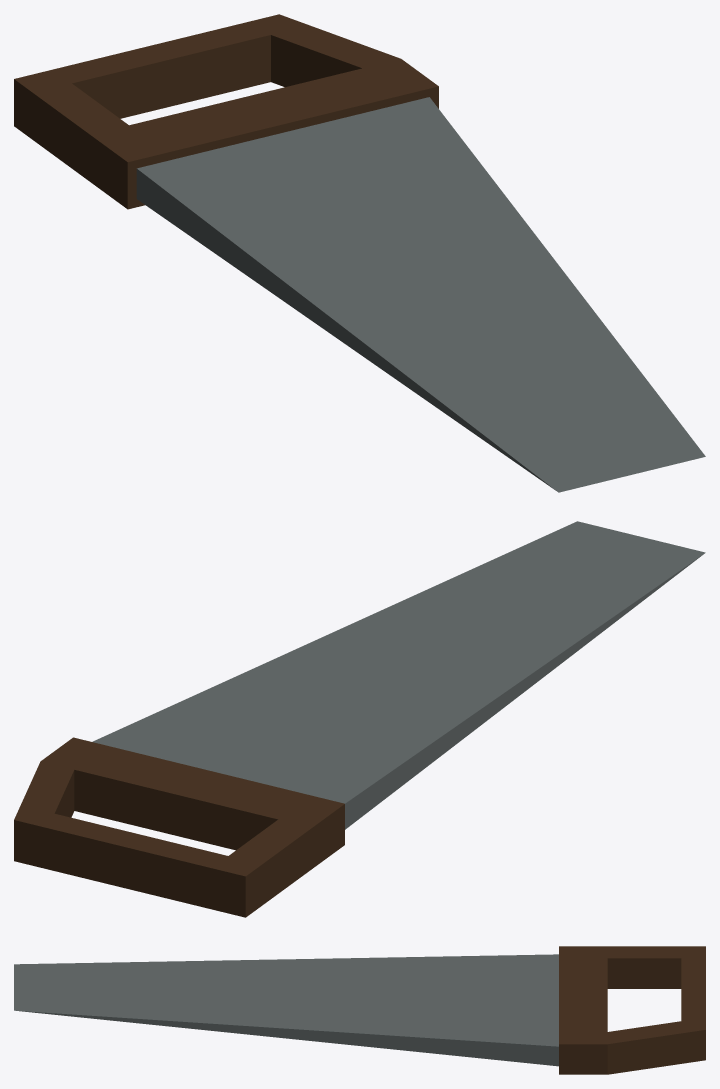
File: Saw_1_Dark_Brown.fbx
3 views of the same model, one above another, from view 1: azimuth 30°, elevation 25°; view 2: azimuth 150°, elevation 25°; view 3: azimuth 270°, elevation 25° (orthographic). The views are drawn at different scales.
Visible parts, largest first — view 1: Saw_1_Dark_Brown; view 2: Saw_1_Dark_Brown; view 3: Saw_1_Dark_Brown.
Part boxes in pixels (x1,y1,x2,y2): Saw_1_Dark_Brown: (14,14,705,492); Saw_1_Dark_Brown: (14,521,705,917); Saw_1_Dark_Brown: (14,946,705,1074).
Bounding box in the file's own units: 21.21 × 3.07 × 63.27.
